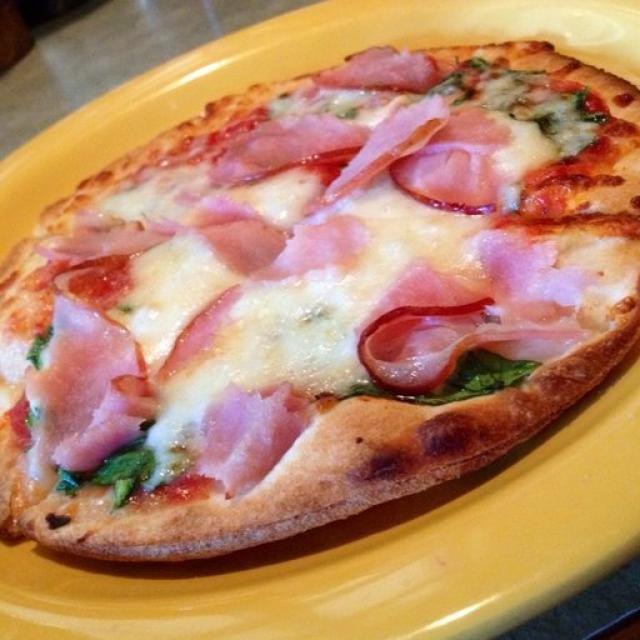Basil: (456, 59, 604, 123), (449, 354, 531, 398), (108, 452, 144, 502), (27, 324, 45, 361)
Ham: (362, 259, 454, 385), (41, 342, 146, 431), (210, 117, 356, 177), (493, 247, 569, 343), (393, 146, 492, 206), (384, 103, 512, 147), (316, 51, 438, 94), (215, 404, 276, 472), (327, 128, 381, 197), (206, 208, 272, 258), (272, 231, 356, 265), (60, 225, 163, 249), (459, 288, 493, 348)
Pizza: (0, 40, 640, 568)
